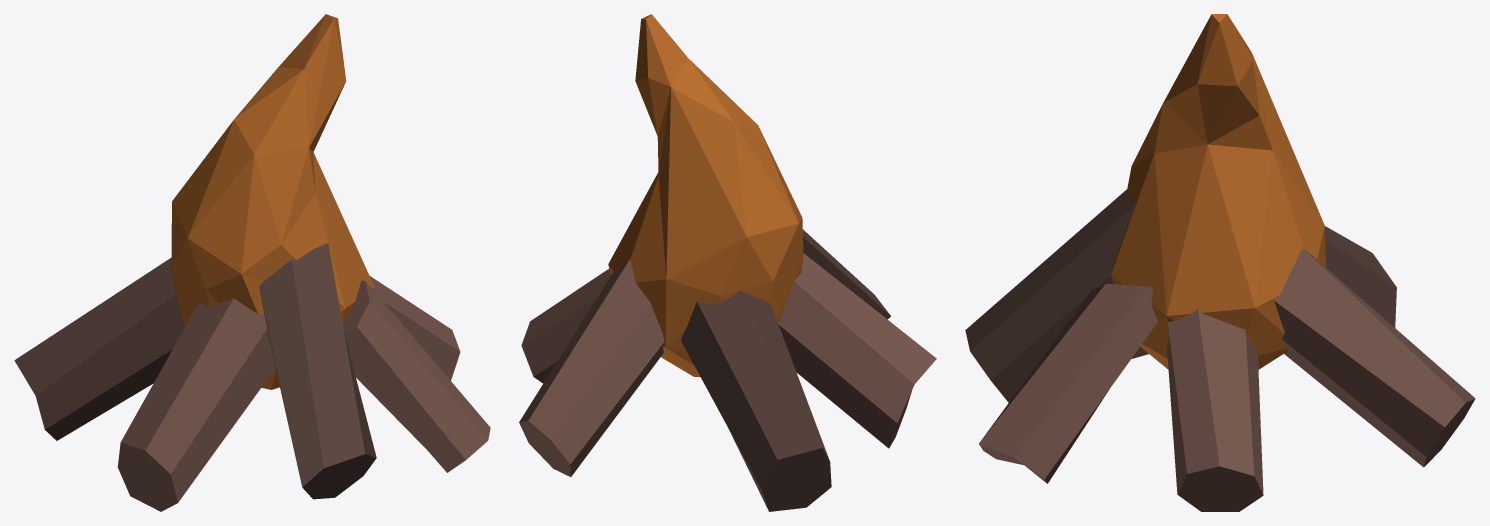
Rendered from Woodfire.glb.
The picture shows the model from 3 angles, left to right: view 1: azimuth 30°, elevation 25°; view 2: azimuth 150°, elevation 25°; view 3: azimuth 270°, elevation 25°; orthographic projection. The views are drawn at different scales.
Visible parts, largest first — view 1: WoodFire; view 2: WoodFire; view 3: WoodFire.
Part boxes in pixels (bbox=[...]): WoodFire: bbox=[14, 14, 490, 511]; WoodFire: bbox=[519, 14, 936, 511]; WoodFire: bbox=[965, 14, 1475, 511].
Bounding box in the file's own units: 0.7756 × 0.8281 × 0.8266.
